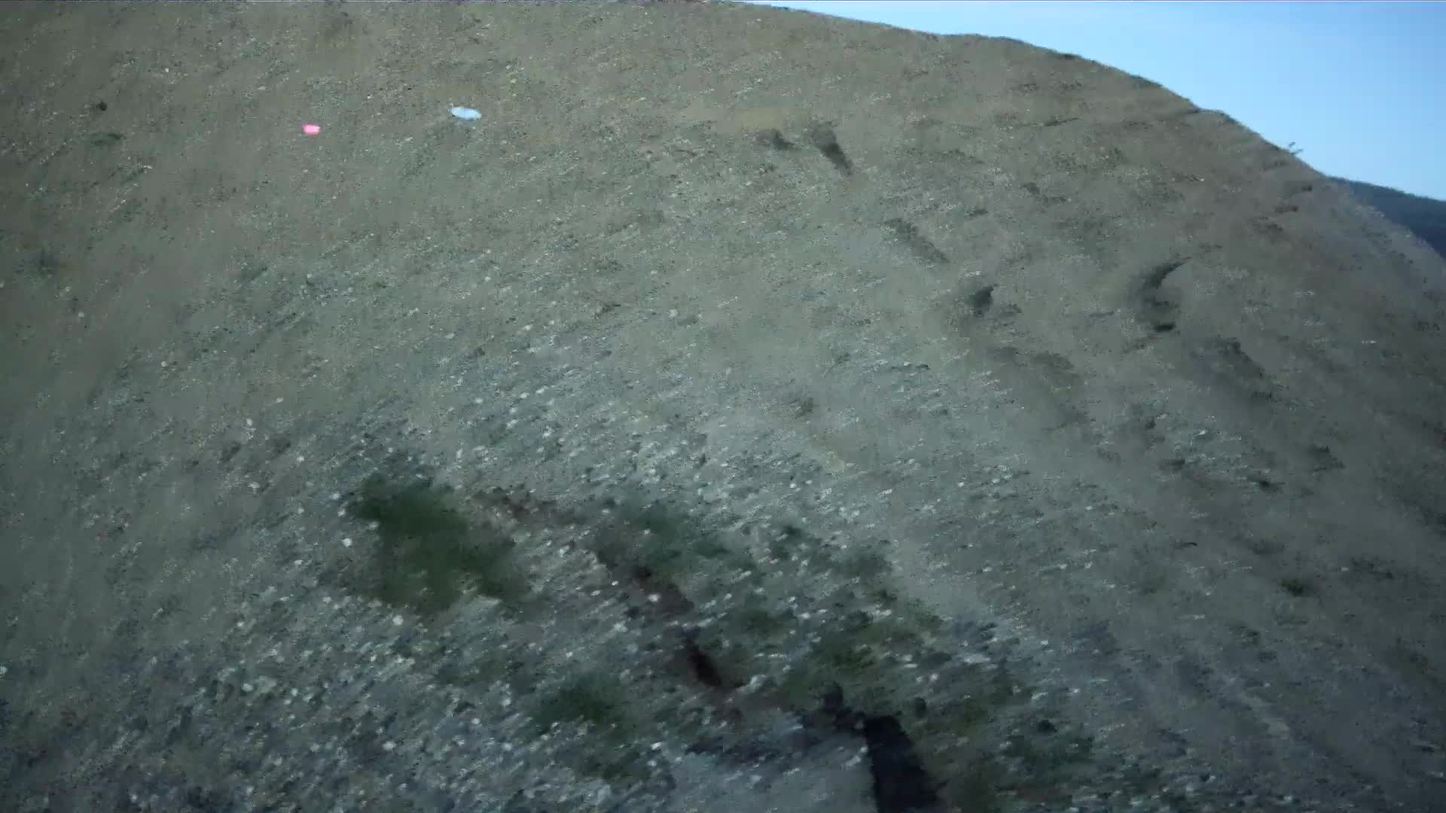Target: (449, 106, 482, 120)
